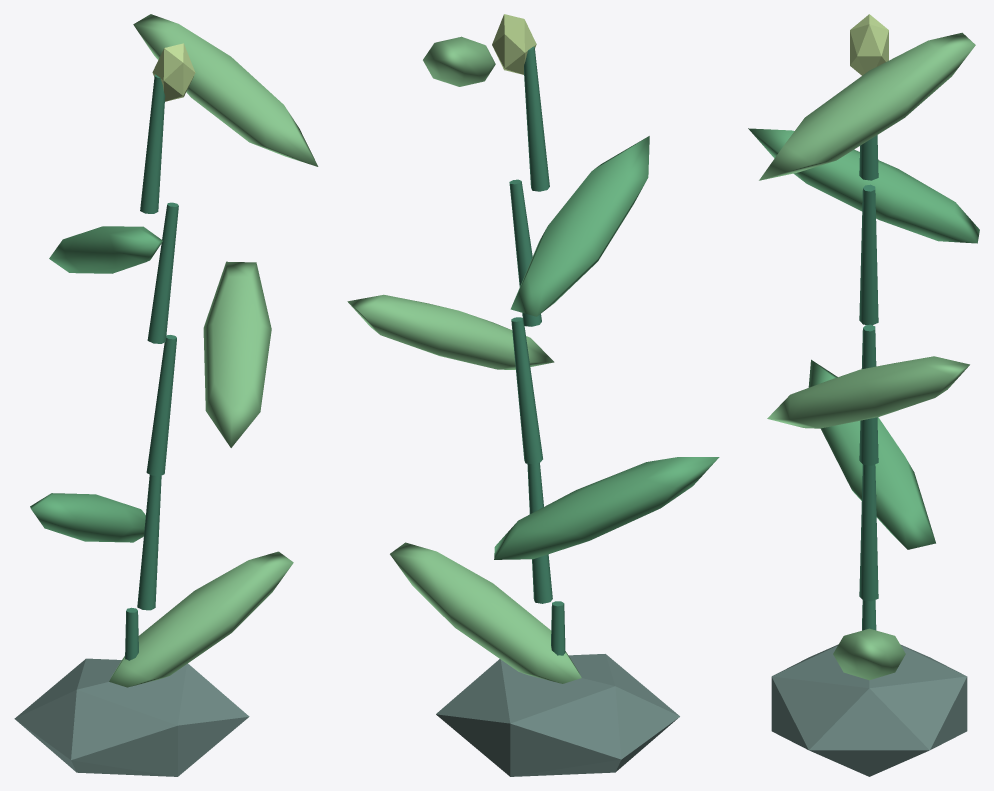
Rendered from ocean-scenery-20.glb.
3 renders of one model, left to right at view 1: azimuth 30°, elevation 25°; view 2: azimuth 150°, elevation 25°; view 3: azimuth 270°, elevation 25°, orthographic. The views are drawn at different scales.
Visible parts, largest first — view 1: Swaying kelp frond; view 2: Swaying kelp frond; view 3: Swaying kelp frond.
Part boxes in pixels (left/top/right/bottom): Swaying kelp frond: left=14, top=14, right=318, bottom=776; Swaying kelp frond: left=347, top=14, right=719, bottom=776; Swaying kelp frond: left=748, top=14, right=979, bottom=776.
Bounding box in the file's own units: 1.25 × 2.88 × 0.8065.
